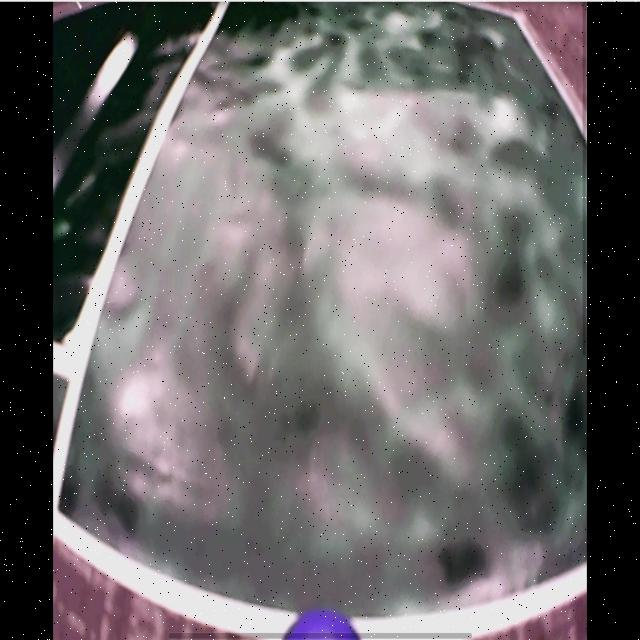ball: (283, 607, 364, 640)
